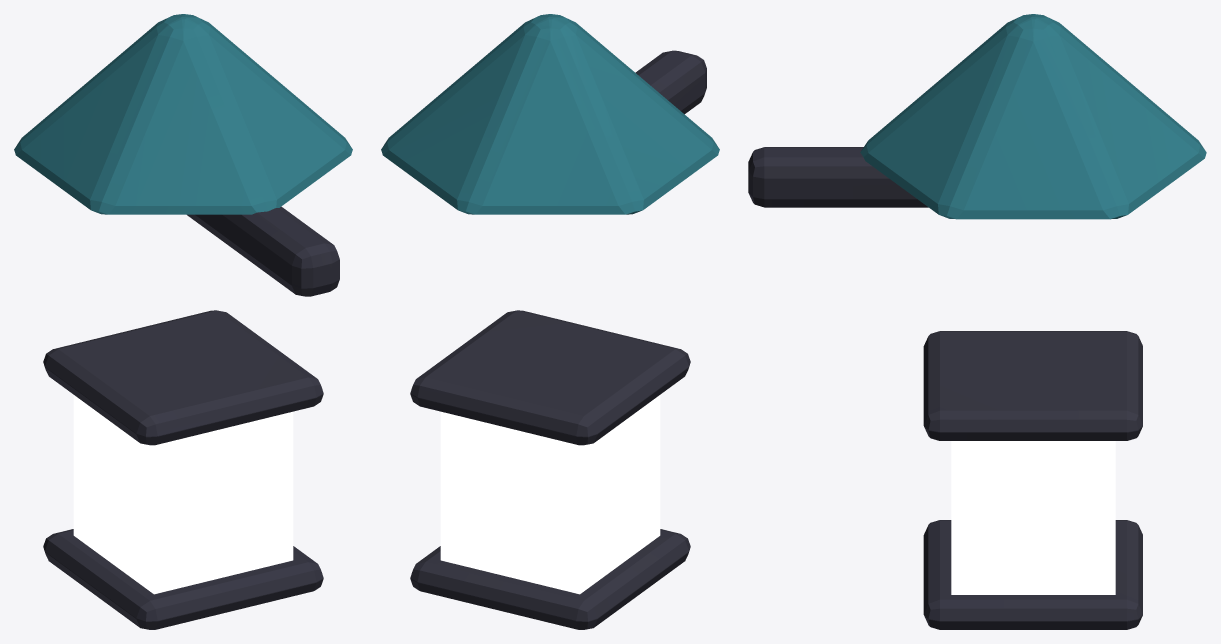
File: wall_lantern.glb
The picture shows the model from 3 angles, left to right: view 1: azimuth 30°, elevation 25°; view 2: azimuth 150°, elevation 25°; view 3: azimuth 270°, elevation 25°; orthographic projection. The views are drawn at different scales.
Parts seen in each view (by area): view 1: WallLantern, Glow; view 2: WallLantern, Glow; view 3: WallLantern, Glow.
Boxes of the visible parts, box(x1,y1,x2,y2) form: WallLantern: box(14, 14, 352, 629); Glow: box(73, 395, 293, 594); WallLantern: box(381, 14, 719, 629); Glow: box(440, 395, 660, 594); WallLantern: box(748, 14, 1206, 629); Glow: box(951, 441, 1115, 594).
Bounding box in the file's own units: 0.28 × 0.575 × 0.418.
